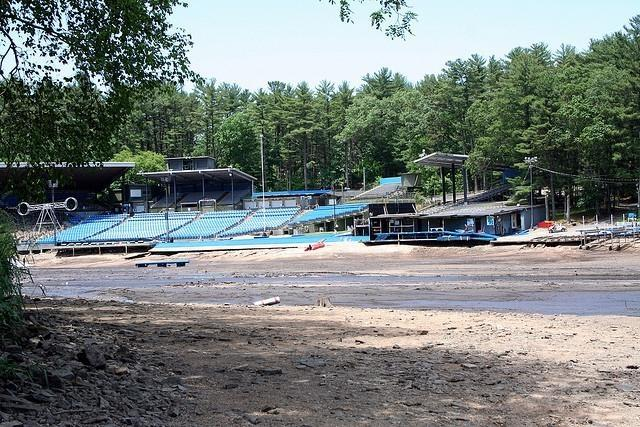car: (548, 224, 568, 233), (625, 212, 637, 221)
